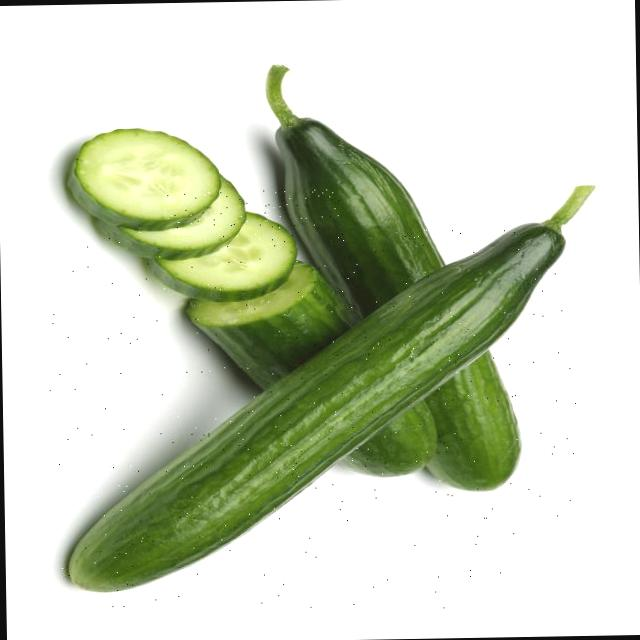Cucumber: (60, 196, 602, 586), (278, 104, 442, 316)
